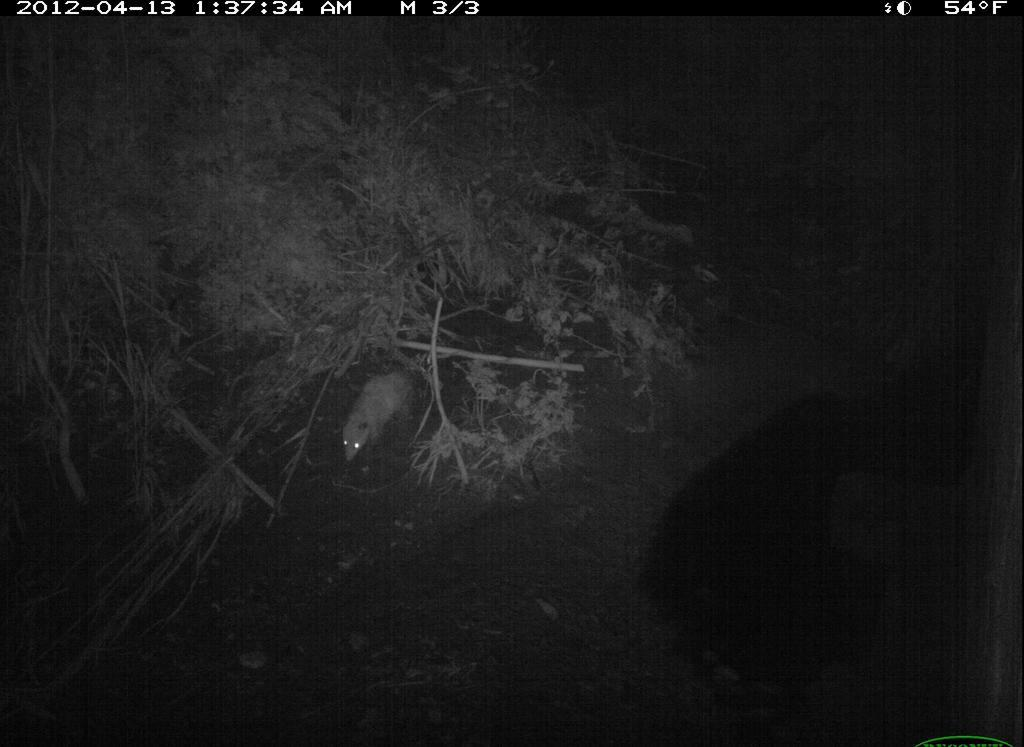opossum: (326, 350, 461, 470)
